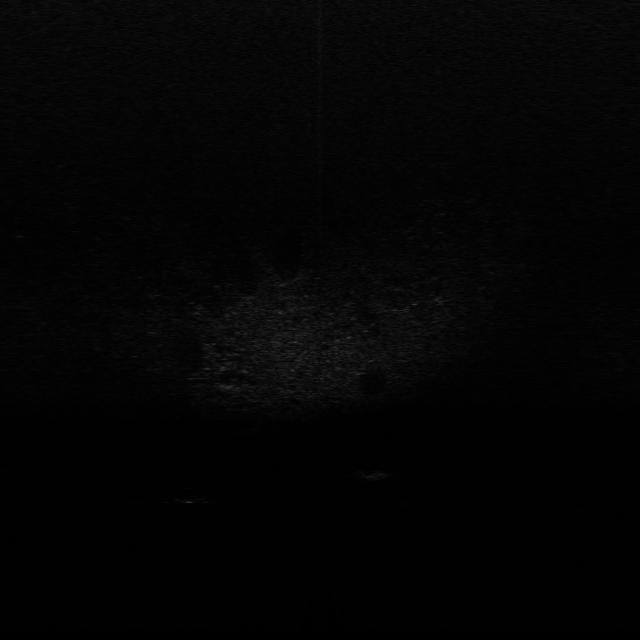ball: (177, 485, 211, 505)
cube: (359, 464, 392, 483)
